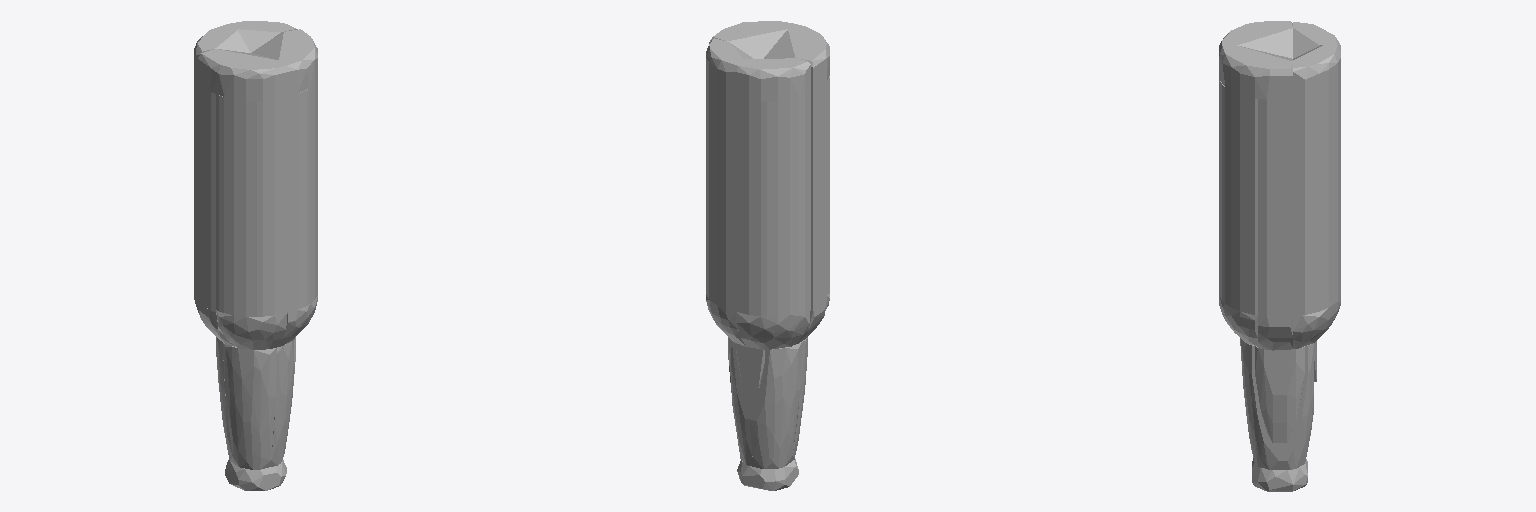
--- What the picture shows (computed from the rendered views, not written in the file) ---
Views: 3 orthographic renders of the robot side by side, from view 1: azimuth 30°, elevation 25°; view 2: azimuth 150°, elevation 25°; view 3: azimuth 270°, elevation 25°.
Model root with 23 links and 22 joints (22 fixed), rooted at link_3f91158956ad7db0322747720d7d37e8_convex_piece_0, posed all joints at 0.
Links seen in each view (by area): view 1: link_3f91158956ad7db0322747720d7d37e8_convex_piece_16, link_3f91158956ad7db0322747720d7d37e8_convex_piece_20, link_3f91158956ad7db0322747720d7d37e8_convex_piece_11, link_3f91158956ad7db0322747720d7d37e8_convex_piece_18, link_3f91158956ad7db0322747720d7d37e8_convex_piece_3, link_3f91158956ad7db0322747720d7d37e8_convex_piece_4, link_3f91158956ad7db0322747720d7d37e8_convex_piece_15, link_3f91158956ad7db0322747720d7d37e8_convex_piece_12, link_3f91158956ad7db0322747720d7d37e8_convex_piece_0, link_3f91158956ad7db0322747720d7d37e8_convex_piece_5, link_3f91158956ad7db0322747720d7d37e8_convex_piece_6, link_3f91158956ad7db0322747720d7d37e8_convex_piece_19 (+2 smaller); view 2: link_3f91158956ad7db0322747720d7d37e8_convex_piece_8, link_3f91158956ad7db0322747720d7d37e8_convex_piece_10, link_3f91158956ad7db0322747720d7d37e8_convex_piece_13, link_3f91158956ad7db0322747720d7d37e8_convex_piece_18, link_3f91158956ad7db0322747720d7d37e8_convex_piece_5, link_3f91158956ad7db0322747720d7d37e8_convex_piece_7, link_3f91158956ad7db0322747720d7d37e8_convex_piece_3, link_3f91158956ad7db0322747720d7d37e8_convex_piece_4, link_3f91158956ad7db0322747720d7d37e8_convex_piece_6, link_3f91158956ad7db0322747720d7d37e8_convex_piece_14, link_3f91158956ad7db0322747720d7d37e8_convex_piece_0, link_3f91158956ad7db0322747720d7d37e8_convex_piece_1 (+3 smaller); view 3: link_3f91158956ad7db0322747720d7d37e8_convex_piece_10, link_3f91158956ad7db0322747720d7d37e8_convex_piece_20, link_3f91158956ad7db0322747720d7d37e8_convex_piece_22, link_3f91158956ad7db0322747720d7d37e8_convex_piece_2, link_3f91158956ad7db0322747720d7d37e8_convex_piece_4, link_3f91158956ad7db0322747720d7d37e8_convex_piece_12, link_3f91158956ad7db0322747720d7d37e8_convex_piece_6, link_3f91158956ad7db0322747720d7d37e8_convex_piece_14, link_3f91158956ad7db0322747720d7d37e8_convex_piece_3, link_3f91158956ad7db0322747720d7d37e8_convex_piece_0, link_3f91158956ad7db0322747720d7d37e8_convex_piece_9, link_3f91158956ad7db0322747720d7d37e8_convex_piece_21 (+2 smaller).
Boxes of the visible links, bbox=[...] form: link_3f91158956ad7db0322747720d7d37e8_convex_piece_16: bbox=[216, 94, 287, 316]; link_3f91158956ad7db0322747720d7d37e8_convex_piece_20: bbox=[288, 80, 317, 311]; link_3f91158956ad7db0322747720d7d37e8_convex_piece_11: bbox=[223, 343, 276, 469]; link_3f91158956ad7db0322747720d7d37e8_convex_piece_18: bbox=[197, 82, 215, 311]; link_3f91158956ad7db0322747720d7d37e8_convex_piece_3: bbox=[197, 49, 287, 100]; link_3f91158956ad7db0322747720d7d37e8_convex_piece_4: bbox=[252, 29, 317, 95]; link_3f91158956ad7db0322747720d7d37e8_convex_piece_15: bbox=[216, 310, 287, 349]; link_3f91158956ad7db0322747720d7d37e8_convex_piece_12: bbox=[270, 340, 293, 466]; link_3f91158956ad7db0322747720d7d37e8_convex_piece_0: bbox=[225, 460, 286, 490]; link_3f91158956ad7db0322747720d7d37e8_convex_piece_5: bbox=[194, 24, 249, 78]; link_3f91158956ad7db0322747720d7d37e8_convex_piece_6: bbox=[230, 21, 297, 52]; link_3f91158956ad7db0322747720d7d37e8_convex_piece_19: bbox=[278, 296, 317, 346]; link_3f91158956ad7db0322747720d7d37e8_convex_piece_8: bbox=[736, 92, 810, 316]; link_3f91158956ad7db0322747720d7d37e8_convex_piece_10: bbox=[706, 80, 735, 311]; link_3f91158956ad7db0322747720d7d37e8_convex_piece_13: bbox=[750, 341, 802, 468]; link_3f91158956ad7db0322747720d7d37e8_convex_piece_18: bbox=[811, 82, 826, 309]; link_3f91158956ad7db0322747720d7d37e8_convex_piece_5: bbox=[736, 58, 810, 100]; link_3f91158956ad7db0322747720d7d37e8_convex_piece_7: bbox=[736, 307, 810, 349]; link_3f91158956ad7db0322747720d7d37e8_convex_piece_3: bbox=[764, 24, 829, 91]; link_3f91158956ad7db0322747720d7d37e8_convex_piece_4: bbox=[709, 21, 793, 58]; link_3f91158956ad7db0322747720d7d37e8_convex_piece_6: bbox=[706, 38, 752, 95]; link_3f91158956ad7db0322747720d7d37e8_convex_piece_14: bbox=[730, 339, 753, 466]; link_3f91158956ad7db0322747720d7d37e8_convex_piece_0: bbox=[737, 459, 798, 490]; link_3f91158956ad7db0322747720d7d37e8_convex_piece_1: bbox=[735, 343, 764, 393]; link_3f91158956ad7db0322747720d7d37e8_convex_piece_10: bbox=[1293, 80, 1340, 314]; link_3f91158956ad7db0322747720d7d37e8_convex_piece_20: bbox=[1219, 80, 1257, 314]; link_3f91158956ad7db0322747720d7d37e8_convex_piece_22: bbox=[1258, 99, 1292, 316]; link_3f91158956ad7db0322747720d7d37e8_convex_piece_2: bbox=[1255, 346, 1304, 442]; link_3f91158956ad7db0322747720d7d37e8_convex_piece_4: bbox=[1219, 45, 1292, 99]; link_3f91158956ad7db0322747720d7d37e8_convex_piece_12: bbox=[1240, 338, 1278, 469]; link_3f91158956ad7db0322747720d7d37e8_convex_piece_6: bbox=[1293, 45, 1340, 98]; link_3f91158956ad7db0322747720d7d37e8_convex_piece_14: bbox=[1279, 343, 1313, 469]; link_3f91158956ad7db0322747720d7d37e8_convex_piece_3: bbox=[1219, 21, 1292, 58]; link_3f91158956ad7db0322747720d7d37e8_convex_piece_0: bbox=[1252, 458, 1307, 491]; link_3f91158956ad7db0322747720d7d37e8_convex_piece_9: bbox=[1293, 297, 1340, 348]; link_3f91158956ad7db0322747720d7d37e8_convex_piece_21: bbox=[1258, 315, 1292, 350].
Size in the robot's own frame: 0.0462 by 0.0462 by 0.1838 metres.
Meshes: 23 distinct files referenced, 23 mesh visuals loaded (23 OBJ).

URDF robot description (root):
<robot name="root">
  <link name="link_3f91158956ad7db0322747720d7d37e8_convex_piece_0">
    <inertial>
      <origin rpy="0 0 0" xyz="0 0 0"/>
      <mass value="1.54E-06"/>
      <inertia ixx="1.14E-08" ixy="-2.70E-13" ixz="4.14E-12" iyy="1.14E-08" iyz="8.37E-13" izz="9.28E-11"/>
    </inertial>
    <visual>
      <origin rpy="0 0 0" xyz="0 0 0"/>
      <geometry>
        <mesh filename="3f91158956ad7db0322747720d7d37e8_convex_piece_0.obj" scale="1.0000E+00"/>
      </geometry>
      <material name="">
        <color rgba="7.50E-01 7.50E-01 7.50E-01 1"/>
      </material>
    </visual>
    <collision>
      <origin rpy="0 0 0" xyz="0 0 0"/>
      <geometry>
        <mesh filename="3f91158956ad7db0322747720d7d37e8_convex_piece_0.obj" scale="1.0000E+00"/>
      </geometry>
    </collision>
  </link>
  <link name="link_3f91158956ad7db0322747720d7d37e8_convex_piece_1">
    <inertial>
      <origin rpy="0 0 0" xyz="0 0 0"/>
      <mass value="9.89E-08"/>
      <inertia ixx="1.39E-10" ixy="-1.69E-14" ixz="6.05E-14" iyy="1.22E-10" iyz="-5.16E-11" izz="1.91E-11"/>
    </inertial>
    <visual>
      <origin rpy="0 0 0" xyz="0 0 0"/>
      <geometry>
        <mesh filename="3f91158956ad7db0322747720d7d37e8_convex_piece_1.obj" scale="1.0000E+00"/>
      </geometry>
      <material name="">
        <color rgba="7.50E-01 7.50E-01 7.50E-01 1"/>
      </material>
    </visual>
    <collision>
      <origin rpy="0 0 0" xyz="0 0 0"/>
      <geometry>
        <mesh filename="3f91158956ad7db0322747720d7d37e8_convex_piece_1.obj" scale="1.0000E+00"/>
      </geometry>
    </collision>
  </link>
  <joint name="link_3f91158956ad7db0322747720d7d37e8_convex_piece_1_joint" type="fixed">
    <origin rpy="0 0 0" xyz="0 0 0"/>
    <parent link="link_3f91158956ad7db0322747720d7d37e8_convex_piece_0"/>
    <child link="link_3f91158956ad7db0322747720d7d37e8_convex_piece_1"/>
  </joint>
  <link name="link_3f91158956ad7db0322747720d7d37e8_convex_piece_2">
    <inertial>
      <origin rpy="0 0 0" xyz="0 0 0"/>
      <mass value="7.31E-07"/>
      <inertia ixx="1.39E-09" ixy="2.14E-14" ixz="-4.03E-10" iyy="1.48E-09" iyz="3.04E-14" izz="1.23E-10"/>
    </inertial>
    <visual>
      <origin rpy="0 0 0" xyz="0 0 0"/>
      <geometry>
        <mesh filename="3f91158956ad7db0322747720d7d37e8_convex_piece_2.obj" scale="1.0000E+00"/>
      </geometry>
      <material name="">
        <color rgba="7.50E-01 7.50E-01 7.50E-01 1"/>
      </material>
    </visual>
    <collision>
      <origin rpy="0 0 0" xyz="0 0 0"/>
      <geometry>
        <mesh filename="3f91158956ad7db0322747720d7d37e8_convex_piece_2.obj" scale="1.0000E+00"/>
      </geometry>
    </collision>
  </link>
  <joint name="link_3f91158956ad7db0322747720d7d37e8_convex_piece_2_joint" type="fixed">
    <origin rpy="0 0 0" xyz="0 0 0"/>
    <parent link="link_3f91158956ad7db0322747720d7d37e8_convex_piece_1"/>
    <child link="link_3f91158956ad7db0322747720d7d37e8_convex_piece_2"/>
  </joint>
  <link name="link_3f91158956ad7db0322747720d7d37e8_convex_piece_3">
    <inertial>
      <origin rpy="0 0 0" xyz="0 0 0"/>
      <mass value="3.02E-06"/>
      <inertia ixx="2.16E-08" ixy="2.00E-10" ixz="-2.68E-09" iyy="2.17E-08" iyz="-2.02E-09" izz="8.03E-10"/>
    </inertial>
    <visual>
      <origin rpy="0 0 0" xyz="0 0 0"/>
      <geometry>
        <mesh filename="3f91158956ad7db0322747720d7d37e8_convex_piece_3.obj" scale="1.0000E+00"/>
      </geometry>
      <material name="">
        <color rgba="7.50E-01 7.50E-01 7.50E-01 1"/>
      </material>
    </visual>
    <collision>
      <origin rpy="0 0 0" xyz="0 0 0"/>
      <geometry>
        <mesh filename="3f91158956ad7db0322747720d7d37e8_convex_piece_3.obj" scale="1.0000E+00"/>
      </geometry>
    </collision>
  </link>
  <joint name="link_3f91158956ad7db0322747720d7d37e8_convex_piece_3_joint" type="fixed">
    <origin rpy="0 0 0" xyz="0 0 0"/>
    <parent link="link_3f91158956ad7db0322747720d7d37e8_convex_piece_2"/>
    <child link="link_3f91158956ad7db0322747720d7d37e8_convex_piece_3"/>
  </joint>
  <link name="link_3f91158956ad7db0322747720d7d37e8_convex_piece_4">
    <inertial>
      <origin rpy="0 0 0" xyz="0 0 0"/>
      <mass value="2.84E-06"/>
      <inertia ixx="2.03E-08" ixy="-2.01E-10" ixz="2.69E-09" iyy="2.04E-08" iyz="-1.87E-09" izz="7.79E-10"/>
    </inertial>
    <visual>
      <origin rpy="0 0 0" xyz="0 0 0"/>
      <geometry>
        <mesh filename="3f91158956ad7db0322747720d7d37e8_convex_piece_4.obj" scale="1.0000E+00"/>
      </geometry>
      <material name="">
        <color rgba="7.50E-01 7.50E-01 7.50E-01 1"/>
      </material>
    </visual>
    <collision>
      <origin rpy="0 0 0" xyz="0 0 0"/>
      <geometry>
        <mesh filename="3f91158956ad7db0322747720d7d37e8_convex_piece_4.obj" scale="1.0000E+00"/>
      </geometry>
    </collision>
  </link>
  <joint name="link_3f91158956ad7db0322747720d7d37e8_convex_piece_4_joint" type="fixed">
    <origin rpy="0 0 0" xyz="0 0 0"/>
    <parent link="link_3f91158956ad7db0322747720d7d37e8_convex_piece_3"/>
    <child link="link_3f91158956ad7db0322747720d7d37e8_convex_piece_4"/>
  </joint>
  <link name="link_3f91158956ad7db0322747720d7d37e8_convex_piece_5">
    <inertial>
      <origin rpy="0 0 0" xyz="0 0 0"/>
      <mass value="1.75E-06"/>
      <inertia ixx="1.26E-08" ixy="-1.97E-10" ixz="-1.39E-09" iyy="1.25E-08" iyz="1.96E-09" izz="5.56E-10"/>
    </inertial>
    <visual>
      <origin rpy="0 0 0" xyz="0 0 0"/>
      <geometry>
        <mesh filename="3f91158956ad7db0322747720d7d37e8_convex_piece_5.obj" scale="1.0000E+00"/>
      </geometry>
      <material name="">
        <color rgba="7.50E-01 7.50E-01 7.50E-01 1"/>
      </material>
    </visual>
    <collision>
      <origin rpy="0 0 0" xyz="0 0 0"/>
      <geometry>
        <mesh filename="3f91158956ad7db0322747720d7d37e8_convex_piece_5.obj" scale="1.0000E+00"/>
      </geometry>
    </collision>
  </link>
  <joint name="link_3f91158956ad7db0322747720d7d37e8_convex_piece_5_joint" type="fixed">
    <origin rpy="0 0 0" xyz="0 0 0"/>
    <parent link="link_3f91158956ad7db0322747720d7d37e8_convex_piece_4"/>
    <child link="link_3f91158956ad7db0322747720d7d37e8_convex_piece_5"/>
  </joint>
  <link name="link_3f91158956ad7db0322747720d7d37e8_convex_piece_6">
    <inertial>
      <origin rpy="0 0 0" xyz="0 0 0"/>
      <mass value="1.63E-06"/>
      <inertia ixx="1.18E-08" ixy="1.97E-10" ixz="1.40E-09" iyy="1.17E-08" iyz="1.82E-09" izz="5.30E-10"/>
    </inertial>
    <visual>
      <origin rpy="0 0 0" xyz="0 0 0"/>
      <geometry>
        <mesh filename="3f91158956ad7db0322747720d7d37e8_convex_piece_6.obj" scale="1.0000E+00"/>
      </geometry>
      <material name="">
        <color rgba="7.50E-01 7.50E-01 7.50E-01 1"/>
      </material>
    </visual>
    <collision>
      <origin rpy="0 0 0" xyz="0 0 0"/>
      <geometry>
        <mesh filename="3f91158956ad7db0322747720d7d37e8_convex_piece_6.obj" scale="1.0000E+00"/>
      </geometry>
    </collision>
  </link>
  <joint name="link_3f91158956ad7db0322747720d7d37e8_convex_piece_6_joint" type="fixed">
    <origin rpy="0 0 0" xyz="0 0 0"/>
    <parent link="link_3f91158956ad7db0322747720d7d37e8_convex_piece_5"/>
    <child link="link_3f91158956ad7db0322747720d7d37e8_convex_piece_6"/>
  </joint>
  <link name="link_3f91158956ad7db0322747720d7d37e8_convex_piece_7">
    <inertial>
      <origin rpy="0 0 0" xyz="0 0 0"/>
      <mass value="1.62E-06"/>
      <inertia ixx="5.28E-10" ixy="-1.80E-10" ixz="2.94E-10" iyy="4.11E-10" iyz="-4.13E-10" izz="5.05E-10"/>
    </inertial>
    <visual>
      <origin rpy="0 0 0" xyz="0 0 0"/>
      <geometry>
        <mesh filename="3f91158956ad7db0322747720d7d37e8_convex_piece_7.obj" scale="1.0000E+00"/>
      </geometry>
      <material name="">
        <color rgba="7.50E-01 7.50E-01 7.50E-01 1"/>
      </material>
    </visual>
    <collision>
      <origin rpy="0 0 0" xyz="0 0 0"/>
      <geometry>
        <mesh filename="3f91158956ad7db0322747720d7d37e8_convex_piece_7.obj" scale="1.0000E+00"/>
      </geometry>
    </collision>
  </link>
  <joint name="link_3f91158956ad7db0322747720d7d37e8_convex_piece_7_joint" type="fixed">
    <origin rpy="0 0 0" xyz="0 0 0"/>
    <parent link="link_3f91158956ad7db0322747720d7d37e8_convex_piece_6"/>
    <child link="link_3f91158956ad7db0322747720d7d37e8_convex_piece_7"/>
  </joint>
  <link name="link_3f91158956ad7db0322747720d7d37e8_convex_piece_8">
    <inertial>
      <origin rpy="0 0 0" xyz="0 0 0"/>
      <mass value="7.97E-06"/>
      <inertia ixx="1.44E-08" ixy="-1.23E-09" ixz="-3.12E-09" iyy="1.37E-08" iyz="4.08E-09" izz="3.33E-09"/>
    </inertial>
    <visual>
      <origin rpy="0 0 0" xyz="0 0 0"/>
      <geometry>
        <mesh filename="3f91158956ad7db0322747720d7d37e8_convex_piece_8.obj" scale="1.0000E+00"/>
      </geometry>
      <material name="">
        <color rgba="7.50E-01 7.50E-01 7.50E-01 1"/>
      </material>
    </visual>
    <collision>
      <origin rpy="0 0 0" xyz="0 0 0"/>
      <geometry>
        <mesh filename="3f91158956ad7db0322747720d7d37e8_convex_piece_8.obj" scale="1.0000E+00"/>
      </geometry>
    </collision>
  </link>
  <joint name="link_3f91158956ad7db0322747720d7d37e8_convex_piece_8_joint" type="fixed">
    <origin rpy="0 0 0" xyz="0 0 0"/>
    <parent link="link_3f91158956ad7db0322747720d7d37e8_convex_piece_7"/>
    <child link="link_3f91158956ad7db0322747720d7d37e8_convex_piece_8"/>
  </joint>
  <link name="link_3f91158956ad7db0322747720d7d37e8_convex_piece_9">
    <inertial>
      <origin rpy="0 0 0" xyz="0 0 0"/>
      <mass value="1.50E-06"/>
      <inertia ixx="4.83E-10" ixy="1.78E-10" ixz="-2.90E-10" iyy="3.92E-10" iyz="-3.78E-10" izz="4.76E-10"/>
    </inertial>
    <visual>
      <origin rpy="0 0 0" xyz="0 0 0"/>
      <geometry>
        <mesh filename="3f91158956ad7db0322747720d7d37e8_convex_piece_9.obj" scale="1.0000E+00"/>
      </geometry>
      <material name="">
        <color rgba="7.50E-01 7.50E-01 7.50E-01 1"/>
      </material>
    </visual>
    <collision>
      <origin rpy="0 0 0" xyz="0 0 0"/>
      <geometry>
        <mesh filename="3f91158956ad7db0322747720d7d37e8_convex_piece_9.obj" scale="1.0000E+00"/>
      </geometry>
    </collision>
  </link>
  <joint name="link_3f91158956ad7db0322747720d7d37e8_convex_piece_9_joint" type="fixed">
    <origin rpy="0 0 0" xyz="0 0 0"/>
    <parent link="link_3f91158956ad7db0322747720d7d37e8_convex_piece_8"/>
    <child link="link_3f91158956ad7db0322747720d7d37e8_convex_piece_9"/>
  </joint>
  <link name="link_3f91158956ad7db0322747720d7d37e8_convex_piece_10">
    <inertial>
      <origin rpy="0 0 0" xyz="0 0 0"/>
      <mass value="7.49E-06"/>
      <inertia ixx="1.35E-08" ixy="1.21E-09" ixz="3.07E-09" iyy="1.30E-08" iyz="3.80E-09" izz="3.17E-09"/>
    </inertial>
    <visual>
      <origin rpy="0 0 0" xyz="0 0 0"/>
      <geometry>
        <mesh filename="3f91158956ad7db0322747720d7d37e8_convex_piece_10.obj" scale="1.0000E+00"/>
      </geometry>
      <material name="">
        <color rgba="7.50E-01 7.50E-01 7.50E-01 1"/>
      </material>
    </visual>
    <collision>
      <origin rpy="0 0 0" xyz="0 0 0"/>
      <geometry>
        <mesh filename="3f91158956ad7db0322747720d7d37e8_convex_piece_10.obj" scale="1.0000E+00"/>
      </geometry>
    </collision>
  </link>
  <joint name="link_3f91158956ad7db0322747720d7d37e8_convex_piece_10_joint" type="fixed">
    <origin rpy="0 0 0" xyz="0 0 0"/>
    <parent link="link_3f91158956ad7db0322747720d7d37e8_convex_piece_9"/>
    <child link="link_3f91158956ad7db0322747720d7d37e8_convex_piece_10"/>
  </joint>
  <link name="link_3f91158956ad7db0322747720d7d37e8_convex_piece_11">
    <inertial>
      <origin rpy="0 0 0" xyz="0 0 0"/>
      <mass value="2.76E-06"/>
      <inertia ixx="7.92E-09" ixy="1.04E-10" ixz="9.14E-10" iyy="7.90E-09" iyz="1.01E-09" izz="3.19E-10"/>
    </inertial>
    <visual>
      <origin rpy="0 0 0" xyz="0 0 0"/>
      <geometry>
        <mesh filename="3f91158956ad7db0322747720d7d37e8_convex_piece_11.obj" scale="1.0000E+00"/>
      </geometry>
      <material name="">
        <color rgba="7.50E-01 7.50E-01 7.50E-01 1"/>
      </material>
    </visual>
    <collision>
      <origin rpy="0 0 0" xyz="0 0 0"/>
      <geometry>
        <mesh filename="3f91158956ad7db0322747720d7d37e8_convex_piece_11.obj" scale="1.0000E+00"/>
      </geometry>
    </collision>
  </link>
  <joint name="link_3f91158956ad7db0322747720d7d37e8_convex_piece_11_joint" type="fixed">
    <origin rpy="0 0 0" xyz="0 0 0"/>
    <parent link="link_3f91158956ad7db0322747720d7d37e8_convex_piece_10"/>
    <child link="link_3f91158956ad7db0322747720d7d37e8_convex_piece_11"/>
  </joint>
  <link name="link_3f91158956ad7db0322747720d7d37e8_convex_piece_12">
    <inertial>
      <origin rpy="0 0 0" xyz="0 0 0"/>
      <mass value="2.13E-06"/>
      <inertia ixx="6.44E-09" ixy="-8.37E-11" ixz="-6.90E-10" iyy="6.39E-09" iyz="8.22E-10" izz="2.30E-10"/>
    </inertial>
    <visual>
      <origin rpy="0 0 0" xyz="0 0 0"/>
      <geometry>
        <mesh filename="3f91158956ad7db0322747720d7d37e8_convex_piece_12.obj" scale="1.0000E+00"/>
      </geometry>
      <material name="">
        <color rgba="7.50E-01 7.50E-01 7.50E-01 1"/>
      </material>
    </visual>
    <collision>
      <origin rpy="0 0 0" xyz="0 0 0"/>
      <geometry>
        <mesh filename="3f91158956ad7db0322747720d7d37e8_convex_piece_12.obj" scale="1.0000E+00"/>
      </geometry>
    </collision>
  </link>
  <joint name="link_3f91158956ad7db0322747720d7d37e8_convex_piece_12_joint" type="fixed">
    <origin rpy="0 0 0" xyz="0 0 0"/>
    <parent link="link_3f91158956ad7db0322747720d7d37e8_convex_piece_11"/>
    <child link="link_3f91158956ad7db0322747720d7d37e8_convex_piece_12"/>
  </joint>
  <link name="link_3f91158956ad7db0322747720d7d37e8_convex_piece_13">
    <inertial>
      <origin rpy="0 0 0" xyz="0 0 0"/>
      <mass value="2.89E-06"/>
      <inertia ixx="8.43E-09" ixy="-1.01E-10" ixz="1.00E-09" iyy="8.45E-09" iyz="-9.66E-10" izz="3.18E-10"/>
    </inertial>
    <visual>
      <origin rpy="0 0 0" xyz="0 0 0"/>
      <geometry>
        <mesh filename="3f91158956ad7db0322747720d7d37e8_convex_piece_13.obj" scale="1.0000E+00"/>
      </geometry>
      <material name="">
        <color rgba="7.50E-01 7.50E-01 7.50E-01 1"/>
      </material>
    </visual>
    <collision>
      <origin rpy="0 0 0" xyz="0 0 0"/>
      <geometry>
        <mesh filename="3f91158956ad7db0322747720d7d37e8_convex_piece_13.obj" scale="1.0000E+00"/>
      </geometry>
    </collision>
  </link>
  <joint name="link_3f91158956ad7db0322747720d7d37e8_convex_piece_13_joint" type="fixed">
    <origin rpy="0 0 0" xyz="0 0 0"/>
    <parent link="link_3f91158956ad7db0322747720d7d37e8_convex_piece_12"/>
    <child link="link_3f91158956ad7db0322747720d7d37e8_convex_piece_13"/>
  </joint>
  <link name="link_3f91158956ad7db0322747720d7d37e8_convex_piece_14">
    <inertial>
      <origin rpy="0 0 0" xyz="0 0 0"/>
      <mass value="2.21E-06"/>
      <inertia ixx="6.83E-09" ixy="8.09E-11" ixz="-7.43E-10" iyy="6.81E-09" iyz="-7.90E-10" izz="2.23E-10"/>
    </inertial>
    <visual>
      <origin rpy="0 0 0" xyz="0 0 0"/>
      <geometry>
        <mesh filename="3f91158956ad7db0322747720d7d37e8_convex_piece_14.obj" scale="1.0000E+00"/>
      </geometry>
      <material name="">
        <color rgba="7.50E-01 7.50E-01 7.50E-01 1"/>
      </material>
    </visual>
    <collision>
      <origin rpy="0 0 0" xyz="0 0 0"/>
      <geometry>
        <mesh filename="3f91158956ad7db0322747720d7d37e8_convex_piece_14.obj" scale="1.0000E+00"/>
      </geometry>
    </collision>
  </link>
  <joint name="link_3f91158956ad7db0322747720d7d37e8_convex_piece_14_joint" type="fixed">
    <origin rpy="0 0 0" xyz="0 0 0"/>
    <parent link="link_3f91158956ad7db0322747720d7d37e8_convex_piece_13"/>
    <child link="link_3f91158956ad7db0322747720d7d37e8_convex_piece_14"/>
  </joint>
  <link name="link_3f91158956ad7db0322747720d7d37e8_convex_piece_15">
    <inertial>
      <origin rpy="0 0 0" xyz="0 0 0"/>
      <mass value="1.39E-06"/>
      <inertia ixx="4.77E-10" ixy="1.61E-10" ixz="2.36E-10" iyy="3.32E-10" iyz="3.79E-10" izz="4.47E-10"/>
    </inertial>
    <visual>
      <origin rpy="0 0 0" xyz="0 0 0"/>
      <geometry>
        <mesh filename="3f91158956ad7db0322747720d7d37e8_convex_piece_15.obj" scale="1.0000E+00"/>
      </geometry>
      <material name="">
        <color rgba="7.50E-01 7.50E-01 7.50E-01 1"/>
      </material>
    </visual>
    <collision>
      <origin rpy="0 0 0" xyz="0 0 0"/>
      <geometry>
        <mesh filename="3f91158956ad7db0322747720d7d37e8_convex_piece_15.obj" scale="1.0000E+00"/>
      </geometry>
    </collision>
  </link>
  <joint name="link_3f91158956ad7db0322747720d7d37e8_convex_piece_15_joint" type="fixed">
    <origin rpy="0 0 0" xyz="0 0 0"/>
    <parent link="link_3f91158956ad7db0322747720d7d37e8_convex_piece_14"/>
    <child link="link_3f91158956ad7db0322747720d7d37e8_convex_piece_15"/>
  </joint>
  <link name="link_3f91158956ad7db0322747720d7d37e8_convex_piece_16">
    <inertial>
      <origin rpy="0 0 0" xyz="0 0 0"/>
      <mass value="7.04E-06"/>
      <inertia ixx="1.28E-08" ixy="1.11E-09" ixz="-2.65E-09" iyy="1.21E-08" iyz="-3.78E-09" izz="2.99E-09"/>
    </inertial>
    <visual>
      <origin rpy="0 0 0" xyz="0 0 0"/>
      <geometry>
        <mesh filename="3f91158956ad7db0322747720d7d37e8_convex_piece_16.obj" scale="1.0000E+00"/>
      </geometry>
      <material name="">
        <color rgba="7.50E-01 7.50E-01 7.50E-01 1"/>
      </material>
    </visual>
    <collision>
      <origin rpy="0 0 0" xyz="0 0 0"/>
      <geometry>
        <mesh filename="3f91158956ad7db0322747720d7d37e8_convex_piece_16.obj" scale="1.0000E+00"/>
      </geometry>
    </collision>
  </link>
  <joint name="link_3f91158956ad7db0322747720d7d37e8_convex_piece_16_joint" type="fixed">
    <origin rpy="0 0 0" xyz="0 0 0"/>
    <parent link="link_3f91158956ad7db0322747720d7d37e8_convex_piece_15"/>
    <child link="link_3f91158956ad7db0322747720d7d37e8_convex_piece_16"/>
  </joint>
  <link name="link_3f91158956ad7db0322747720d7d37e8_convex_piece_17">
    <inertial>
      <origin rpy="0 0 0" xyz="0 0 0"/>
      <mass value="7.95E-07"/>
      <inertia ixx="1.70E-10" ixy="1.35E-11" ixz="2.66E-10" iyy="3.73E-10" iyz="1.91E-11" izz="2.24E-10"/>
    </inertial>
    <visual>
      <origin rpy="0 0 0" xyz="0 0 0"/>
      <geometry>
        <mesh filename="3f91158956ad7db0322747720d7d37e8_convex_piece_17.obj" scale="1.0000E+00"/>
      </geometry>
      <material name="">
        <color rgba="7.50E-01 7.50E-01 7.50E-01 1"/>
      </material>
    </visual>
    <collision>
      <origin rpy="0 0 0" xyz="0 0 0"/>
      <geometry>
        <mesh filename="3f91158956ad7db0322747720d7d37e8_convex_piece_17.obj" scale="1.0000E+00"/>
      </geometry>
    </collision>
  </link>
  <joint name="link_3f91158956ad7db0322747720d7d37e8_convex_piece_17_joint" type="fixed">
    <origin rpy="0 0 0" xyz="0 0 0"/>
    <parent link="link_3f91158956ad7db0322747720d7d37e8_convex_piece_16"/>
    <child link="link_3f91158956ad7db0322747720d7d37e8_convex_piece_17"/>
  </joint>
  <link name="link_3f91158956ad7db0322747720d7d37e8_convex_piece_18">
    <inertial>
      <origin rpy="0 0 0" xyz="0 0 0"/>
      <mass value="2.62E-06"/>
      <inertia ixx="4.05E-09" ixy="6.29E-11" ixz="-1.78E-09" iyy="5.12E-09" iyz="-1.06E-10" izz="1.14E-09"/>
    </inertial>
    <visual>
      <origin rpy="0 0 0" xyz="0 0 0"/>
      <geometry>
        <mesh filename="3f91158956ad7db0322747720d7d37e8_convex_piece_18.obj" scale="1.0000E+00"/>
      </geometry>
      <material name="">
        <color rgba="7.50E-01 7.50E-01 7.50E-01 1"/>
      </material>
    </visual>
    <collision>
      <origin rpy="0 0 0" xyz="0 0 0"/>
      <geometry>
        <mesh filename="3f91158956ad7db0322747720d7d37e8_convex_piece_18.obj" scale="1.0000E+00"/>
      </geometry>
    </collision>
  </link>
  <joint name="link_3f91158956ad7db0322747720d7d37e8_convex_piece_18_joint" type="fixed">
    <origin rpy="0 0 0" xyz="0 0 0"/>
    <parent link="link_3f91158956ad7db0322747720d7d37e8_convex_piece_17"/>
    <child link="link_3f91158956ad7db0322747720d7d37e8_convex_piece_18"/>
  </joint>
  <link name="link_3f91158956ad7db0322747720d7d37e8_convex_piece_19">
    <inertial>
      <origin rpy="0 0 0" xyz="0 0 0"/>
      <mass value="1.20E-06"/>
      <inertia ixx="4.13E-10" ixy="-1.49E-10" ixz="-2.07E-10" iyy="2.77E-10" iyz="3.33E-10" izz="3.97E-10"/>
    </inertial>
    <visual>
      <origin rpy="0 0 0" xyz="0 0 0"/>
      <geometry>
        <mesh filename="3f91158956ad7db0322747720d7d37e8_convex_piece_19.obj" scale="1.0000E+00"/>
      </geometry>
      <material name="">
        <color rgba="7.50E-01 7.50E-01 7.50E-01 1"/>
      </material>
    </visual>
    <collision>
      <origin rpy="0 0 0" xyz="0 0 0"/>
      <geometry>
        <mesh filename="3f91158956ad7db0322747720d7d37e8_convex_piece_19.obj" scale="1.0000E+00"/>
      </geometry>
    </collision>
  </link>
  <joint name="link_3f91158956ad7db0322747720d7d37e8_convex_piece_19_joint" type="fixed">
    <origin rpy="0 0 0" xyz="0 0 0"/>
    <parent link="link_3f91158956ad7db0322747720d7d37e8_convex_piece_18"/>
    <child link="link_3f91158956ad7db0322747720d7d37e8_convex_piece_19"/>
  </joint>
  <link name="link_3f91158956ad7db0322747720d7d37e8_convex_piece_20">
    <inertial>
      <origin rpy="0 0 0" xyz="0 0 0"/>
      <mass value="6.23E-06"/>
      <inertia ixx="1.14E-08" ixy="-1.04E-09" ixz="2.40E-09" iyy="1.07E-08" iyz="-3.40E-09" izz="2.70E-09"/>
    </inertial>
    <visual>
      <origin rpy="0 0 0" xyz="0 0 0"/>
      <geometry>
        <mesh filename="3f91158956ad7db0322747720d7d37e8_convex_piece_20.obj" scale="1.0000E+00"/>
      </geometry>
      <material name="">
        <color rgba="7.50E-01 7.50E-01 7.50E-01 1"/>
      </material>
    </visual>
    <collision>
      <origin rpy="0 0 0" xyz="0 0 0"/>
      <geometry>
        <mesh filename="3f91158956ad7db0322747720d7d37e8_convex_piece_20.obj" scale="1.0000E+00"/>
      </geometry>
    </collision>
  </link>
  <joint name="link_3f91158956ad7db0322747720d7d37e8_convex_piece_20_joint" type="fixed">
    <origin rpy="0 0 0" xyz="0 0 0"/>
    <parent link="link_3f91158956ad7db0322747720d7d37e8_convex_piece_19"/>
    <child link="link_3f91158956ad7db0322747720d7d37e8_convex_piece_20"/>
  </joint>
  <link name="link_3f91158956ad7db0322747720d7d37e8_convex_piece_21">
    <inertial>
      <origin rpy="0 0 0" xyz="0 0 0"/>
      <mass value="9.61E-07"/>
      <inertia ixx="1.98E-10" ixy="-2.59E-11" ixz="-3.12E-10" iyy="4.37E-10" iyz="3.68E-11" izz="2.74E-10"/>
    </inertial>
    <visual>
      <origin rpy="0 0 0" xyz="0 0 0"/>
      <geometry>
        <mesh filename="3f91158956ad7db0322747720d7d37e8_convex_piece_21.obj" scale="1.0000E+00"/>
      </geometry>
      <material name="">
        <color rgba="7.50E-01 7.50E-01 7.50E-01 1"/>
      </material>
    </visual>
    <collision>
      <origin rpy="0 0 0" xyz="0 0 0"/>
      <geometry>
        <mesh filename="3f91158956ad7db0322747720d7d37e8_convex_piece_21.obj" scale="1.0000E+00"/>
      </geometry>
    </collision>
  </link>
  <joint name="link_3f91158956ad7db0322747720d7d37e8_convex_piece_21_joint" type="fixed">
    <origin rpy="0 0 0" xyz="0 0 0"/>
    <parent link="link_3f91158956ad7db0322747720d7d37e8_convex_piece_20"/>
    <child link="link_3f91158956ad7db0322747720d7d37e8_convex_piece_21"/>
  </joint>
  <link name="link_3f91158956ad7db0322747720d7d37e8_convex_piece_22">
    <inertial>
      <origin rpy="0 0 0" xyz="0 0 0"/>
      <mass value="2.82E-06"/>
      <inertia ixx="4.44E-09" ixy="-9.93E-11" ixz="1.96E-09" iyy="5.58E-09" iyz="-1.69E-10" izz="1.24E-09"/>
    </inertial>
    <visual>
      <origin rpy="0 0 0" xyz="0 0 0"/>
      <geometry>
        <mesh filename="3f91158956ad7db0322747720d7d37e8_convex_piece_22.obj" scale="1.0000E+00"/>
      </geometry>
      <material name="">
        <color rgba="7.50E-01 7.50E-01 7.50E-01 1"/>
      </material>
    </visual>
    <collision>
      <origin rpy="0 0 0" xyz="0 0 0"/>
      <geometry>
        <mesh filename="3f91158956ad7db0322747720d7d37e8_convex_piece_22.obj" scale="1.0000E+00"/>
      </geometry>
    </collision>
  </link>
  <joint name="link_3f91158956ad7db0322747720d7d37e8_convex_piece_22_joint" type="fixed">
    <origin rpy="0 0 0" xyz="0 0 0"/>
    <parent link="link_3f91158956ad7db0322747720d7d37e8_convex_piece_21"/>
    <child link="link_3f91158956ad7db0322747720d7d37e8_convex_piece_22"/>
  </joint>
</robot>
